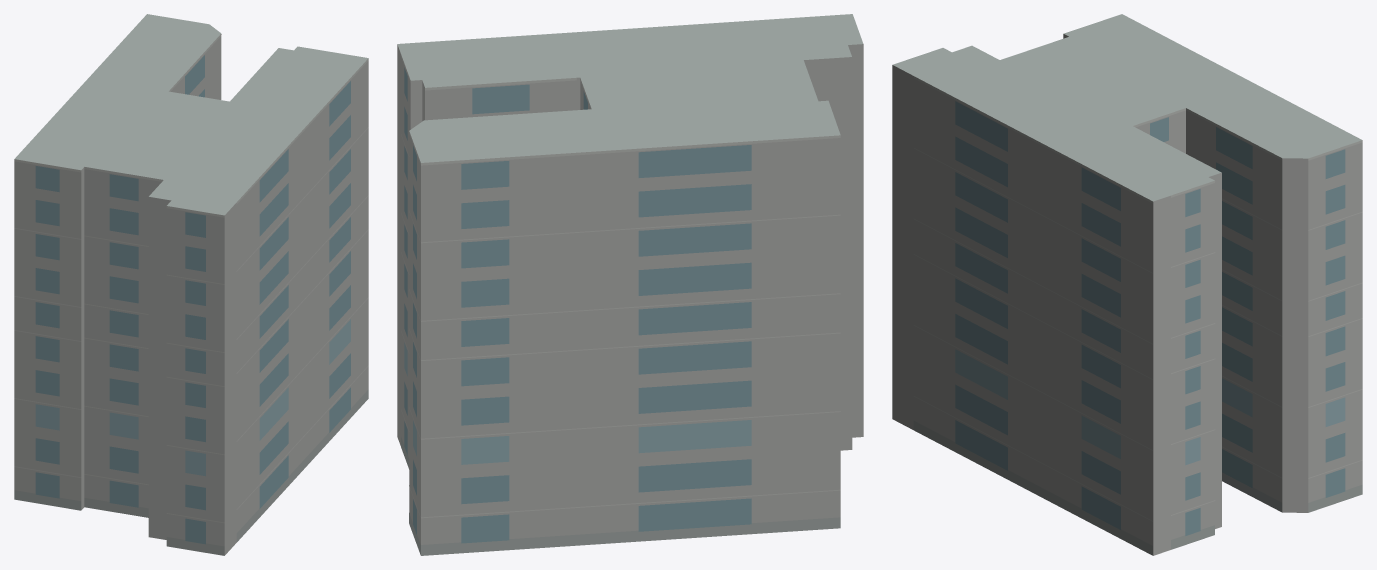
Rendered from survey-upis-32975367.glb.
3 views of the same model, side by side, from view 1: azimuth 30°, elevation 25°; view 2: azimuth 150°, elevation 25°; view 3: azimuth 270°, elevation 25° (orthographic). The views are drawn at different scales.
Parts seen in each view (by area): view 1: survey-upis-32975367.tmp; view 2: survey-upis-32975367.tmp; view 3: survey-upis-32975367.tmp.
Boxes of the visible parts, x1,y1,x2,y2 form: survey-upis-32975367.tmp: [14, 14, 368, 555]; survey-upis-32975367.tmp: [397, 14, 863, 555]; survey-upis-32975367.tmp: [892, 14, 1362, 555].
Bounding box in the file's own units: 41.87 × 36.87 × 44.35.
